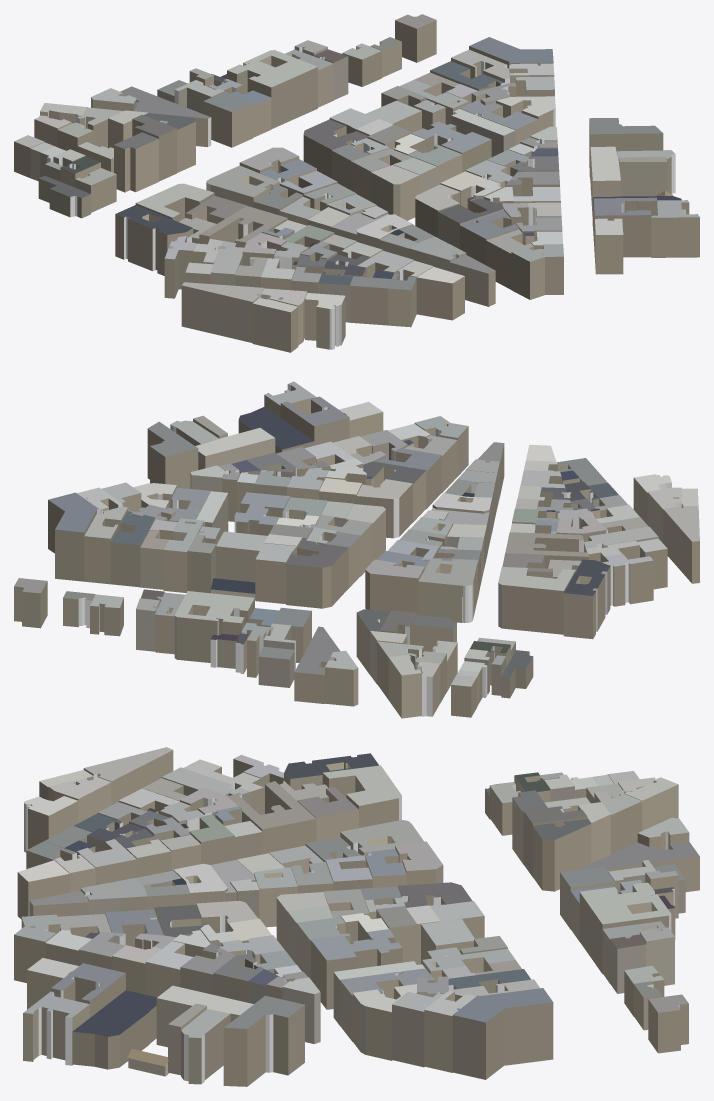
3 renders of one model, top to bottom at view 1: azimuth 30°, elevation 25°; view 2: azimuth 150°, elevation 25°; view 3: azimuth 270°, elevation 25°, orthographic. The views are drawn at different scales.
Parts seen in each view (by area): view 1: tuile; view 2: tuile; view 3: tuile.
Part boxes in pixels (x1,y1,x2,y2): tuile: (14,14,699,352); tuile: (14,381,699,718); tuile: (14,747,699,1086).
Bounding box in the file's own units: 277 × 30.12 × 272.
